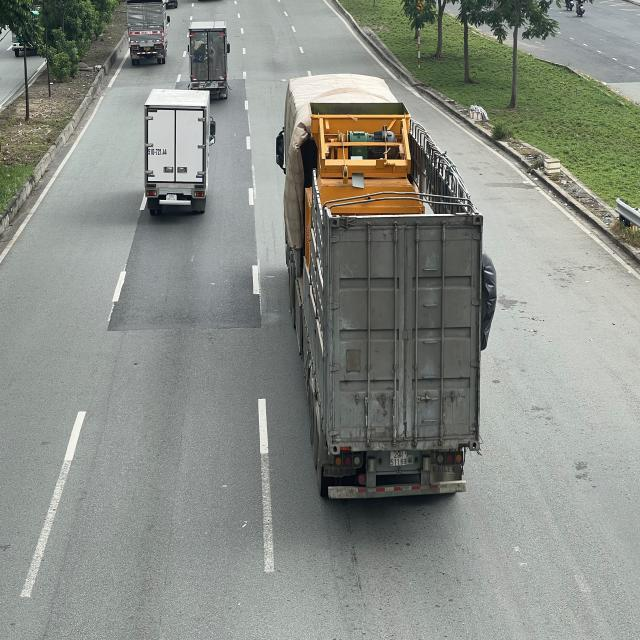container: (276, 75, 487, 503)
truck: (145, 87, 215, 215), (186, 19, 230, 98), (128, 2, 170, 64)
